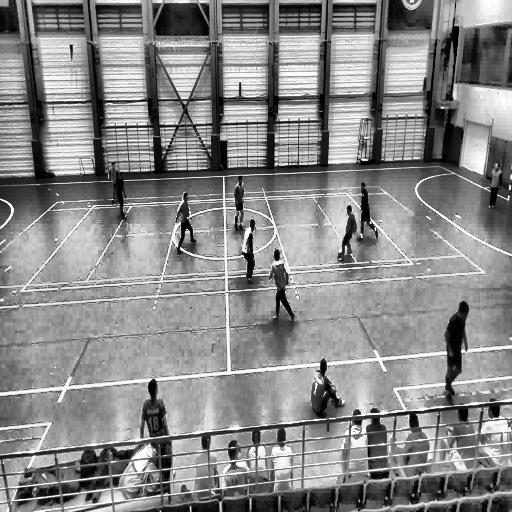ball: (107, 159, 121, 206), (338, 248, 343, 262)
player: (311, 358, 346, 430), (444, 300, 469, 399), (268, 248, 296, 326), (174, 191, 196, 253), (358, 182, 379, 242), (242, 219, 258, 286), (340, 204, 358, 260), (488, 161, 502, 210), (115, 168, 127, 220), (234, 176, 244, 232)
